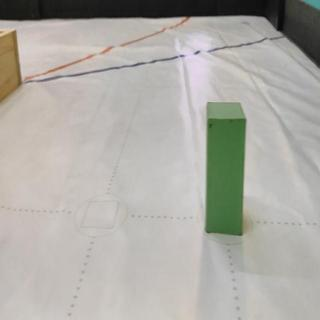greenbox: (204, 99, 246, 237)
